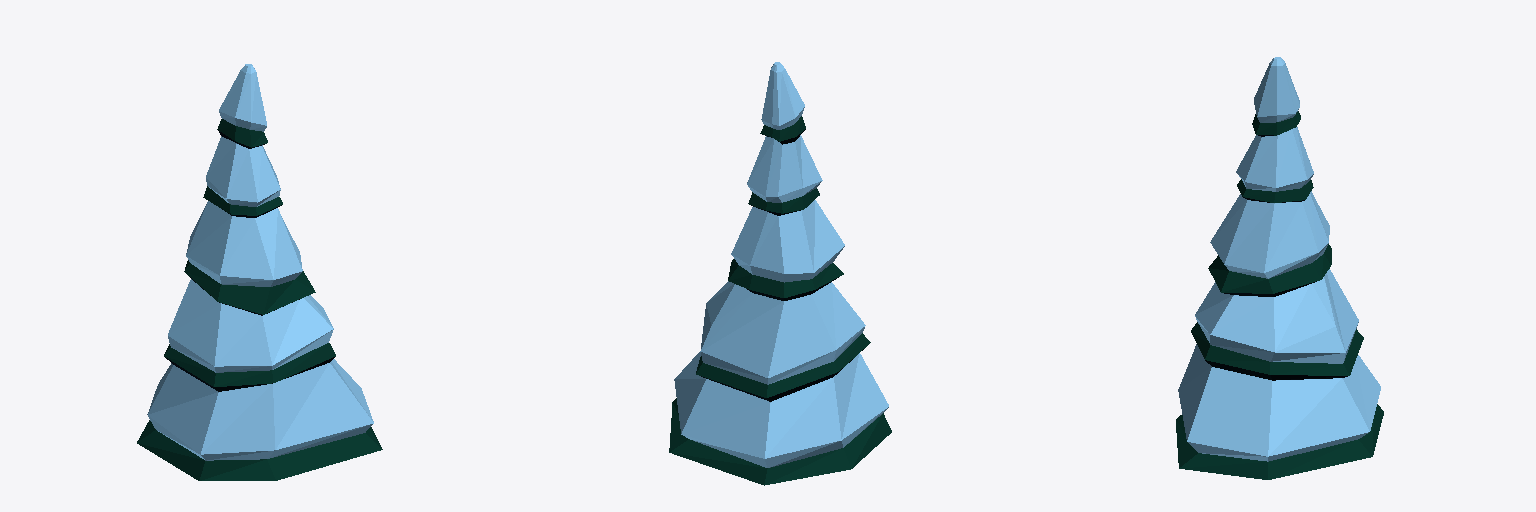
The model's file is snowtree.obj.
The picture shows the model from 3 angles: view 1: azimuth 30°, elevation 25°; view 2: azimuth 150°, elevation 25°; view 3: azimuth 270°, elevation 25°; orthographic projection.
Parts seen in each view (by area): view 1: Cube; view 2: Cube; view 3: Cube.
Part boxes in pixels (x1,y1,x2,y2): Cube: (137,64,382,480); Cube: (669,62,891,485); Cube: (1176,57,1383,479).
Bounding box in the file's own units: 8.99 × 16.4 × 8.01.